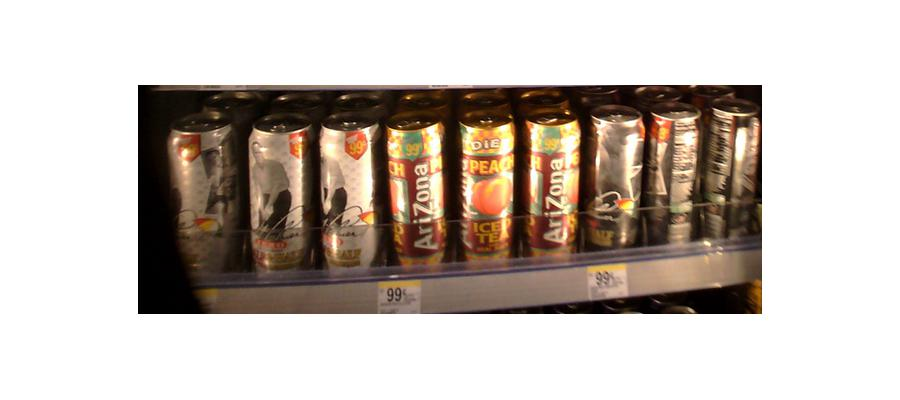bottle: (170, 116, 239, 280), (247, 117, 313, 277), (385, 114, 451, 273), (317, 118, 380, 276), (585, 105, 643, 256), (457, 114, 516, 261), (523, 112, 581, 259), (707, 97, 757, 246), (648, 108, 701, 245)
